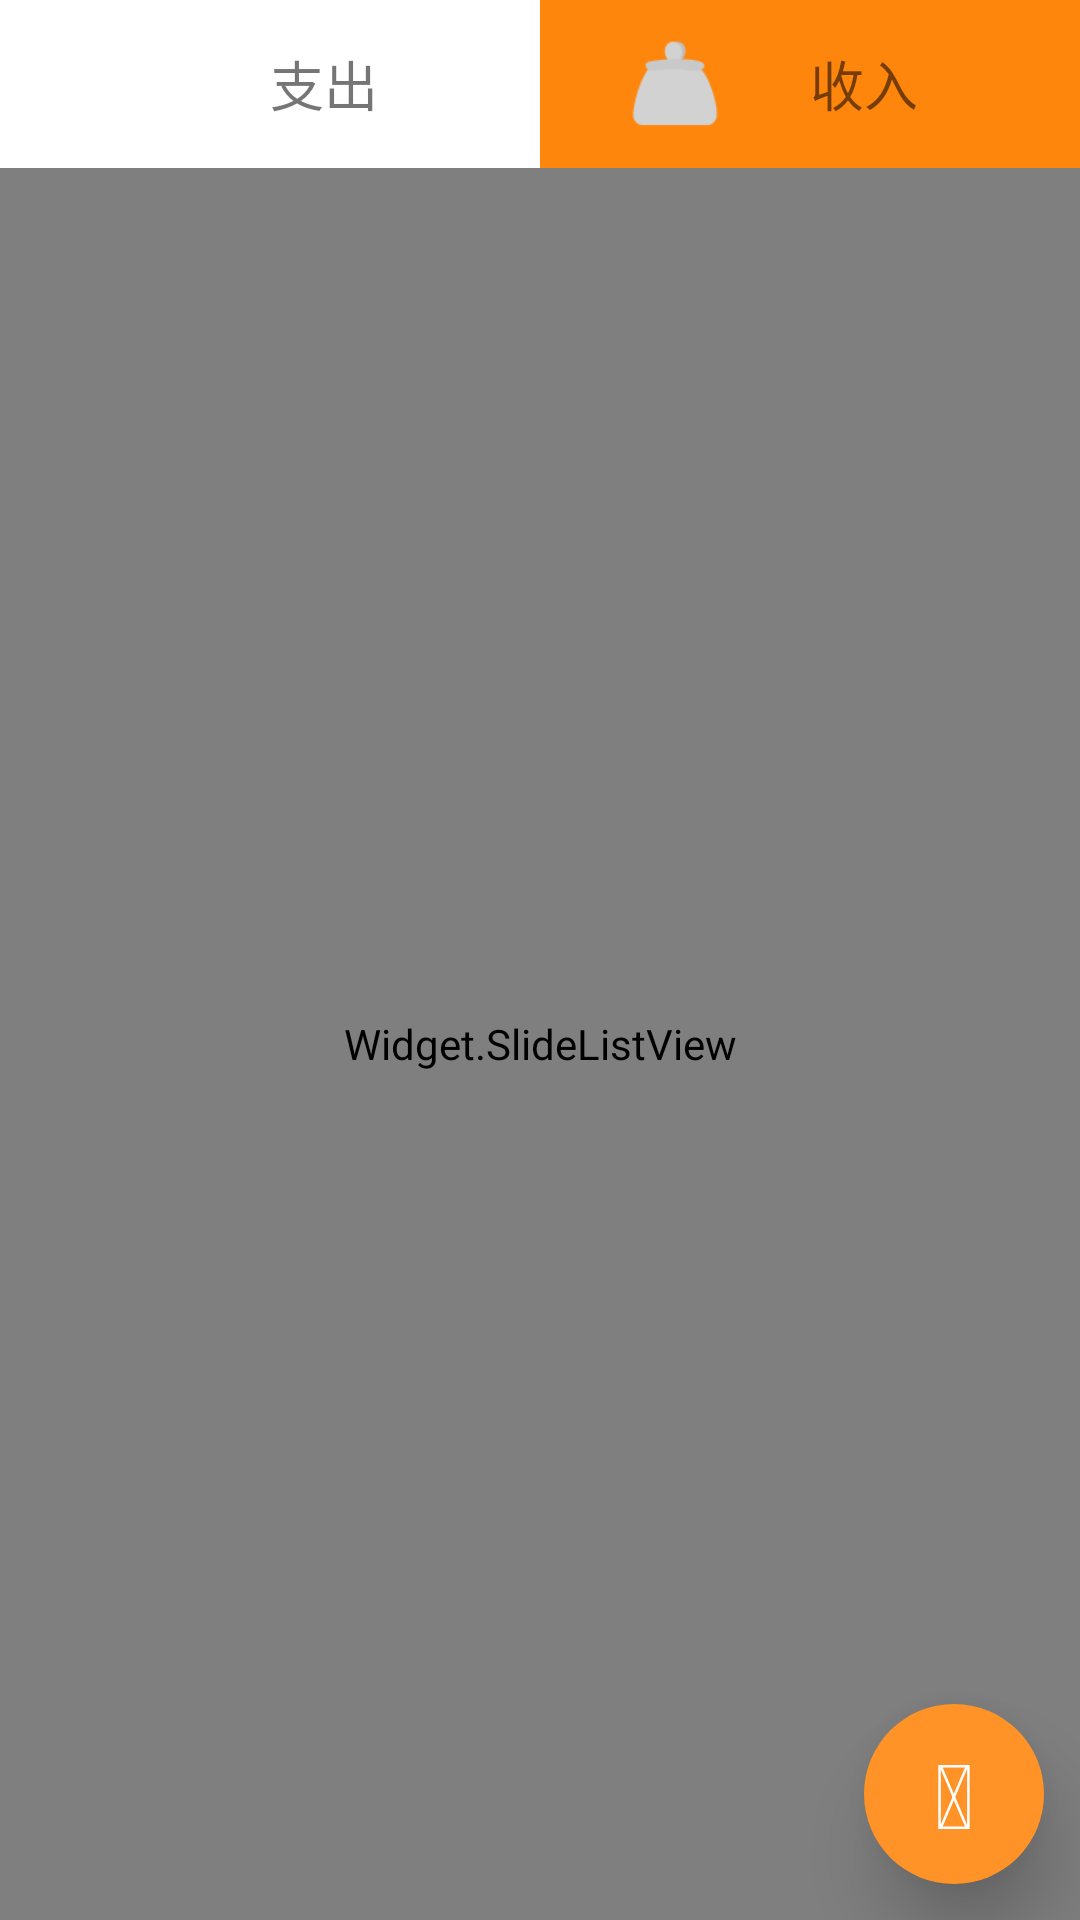

Screen size 1080*1920. Icon name, then its box in pixels as (x1, y1, x2, y2):
income: (632, 41, 718, 126)
